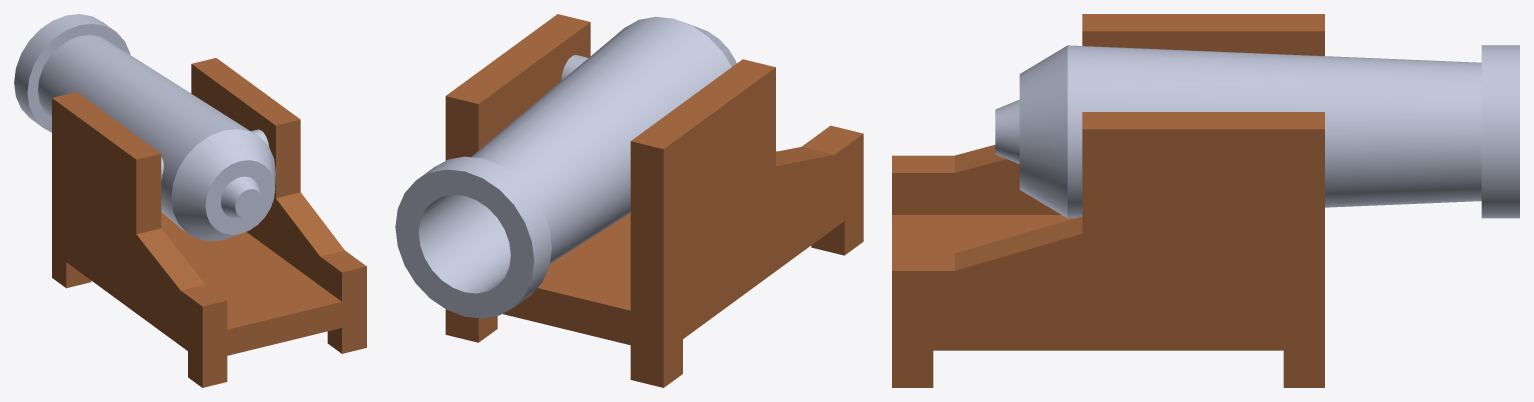
Rendered from cannonLarge.glb.
3 views of the same model, side by side, from view 1: azimuth 30°, elevation 25°; view 2: azimuth 150°, elevation 25°; view 3: azimuth 270°, elevation 25° (orthographic). The views are drawn at different scales.
Parts seen in each view (by area): view 1: cannonLarge, barrelLarge; view 2: cannonLarge, barrelLarge; view 3: cannonLarge, barrelLarge.
Part boxes in pixels (<box>): cannonLarge: <box>52,58,366,387</box>; barrelLarge: <box>14,14,275,241</box>; cannonLarge: <box>445,14,863,387</box>; barrelLarge: <box>395,16,736,318</box>; cannonLarge: <box>892,14,1324,387</box>; barrelLarge: <box>995,45,1519,218</box>.
Bounding box in the file's own units: 0.4345 × 0.4867 × 0.9994.
